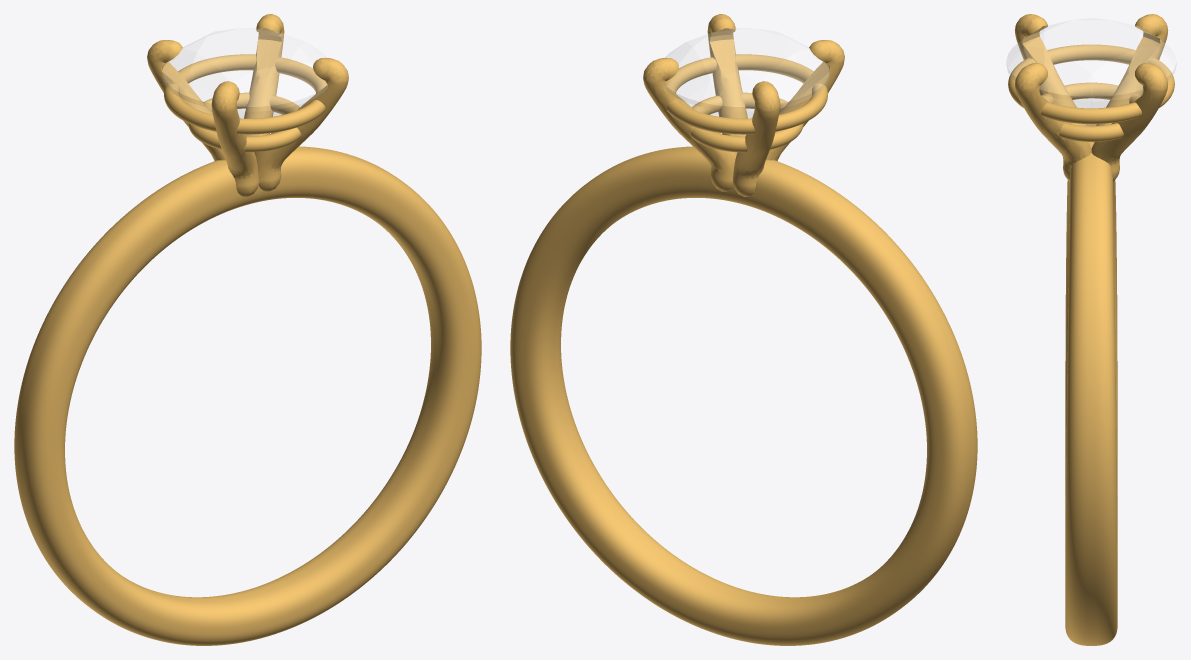
File: solitaire-ring-us6-6.5mm.glb
3 renders of one model, left to right at view 1: azimuth 30°, elevation 25°; view 2: azimuth 150°, elevation 25°; view 3: azimuth 270°, elevation 25°, orthographic.
Parts seen in each view (by area): view 1: Metal, Diamond; view 2: Metal, Diamond; view 3: Metal, Diamond.
Part boxes in pixels (<box>): Metal: <box>14,14,481,645</box>; Diamond: <box>162,28,327,136</box>; Metal: <box>510,14,977,645</box>; Diamond: <box>664,28,829,136</box>; Metal: <box>1008,14,1174,645</box>; Diamond: <box>1006,18,1176,125</box>.
Bounding box in the file's own units: 0.02 × 0.0245 × 0.0065.
